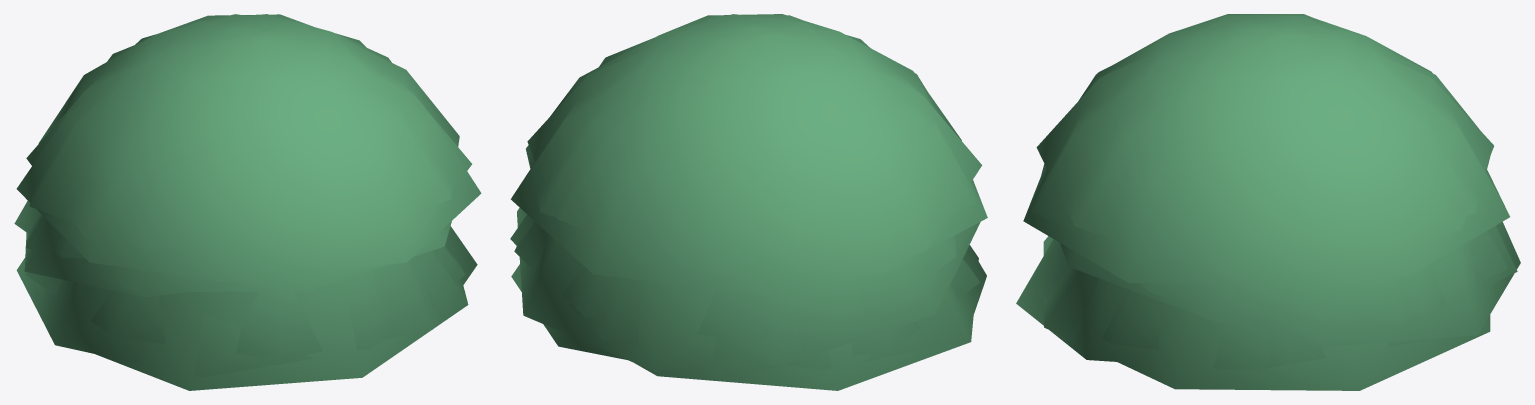
File: SM_Bush_02.fbx
3 renders of one model, left to right at view 1: azimuth 30°, elevation 25°; view 2: azimuth 150°, elevation 25°; view 3: azimuth 270°, elevation 25°, orthographic. The views are drawn at different scales.
Parts seen in each view (by area): view 1: pSphere17; view 2: pSphere17; view 3: pSphere17.
Boxes of the visible parts, x1,y1,x2,y2 form: pSphere17: [14, 14, 481, 390]; pSphere17: [510, 14, 987, 390]; pSphere17: [1016, 14, 1520, 390].
Bounding box in the file's own units: 136 × 83.56 × 140.
